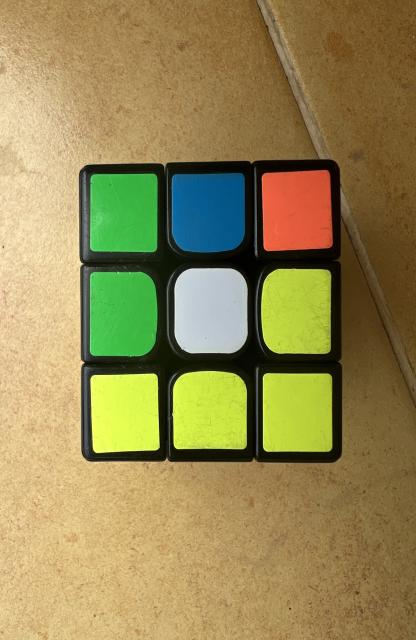Blue: (171, 172, 245, 252)
Green: (90, 271, 157, 356), (90, 174, 157, 252)
Orange: (262, 170, 333, 251)
White: (174, 268, 248, 354)
Yellow: (261, 269, 332, 354), (172, 371, 247, 450), (263, 374, 333, 451), (90, 374, 159, 452)
